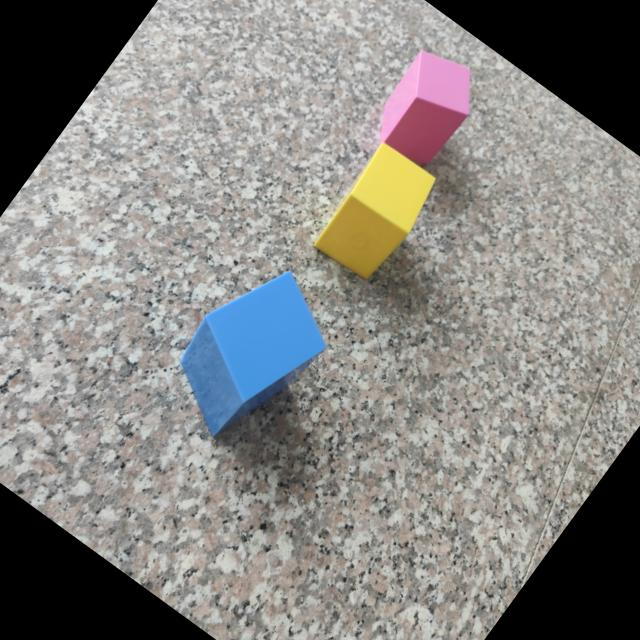blue: (178, 272, 323, 437)
pink: (380, 45, 471, 168)
yellow: (308, 140, 437, 283)
